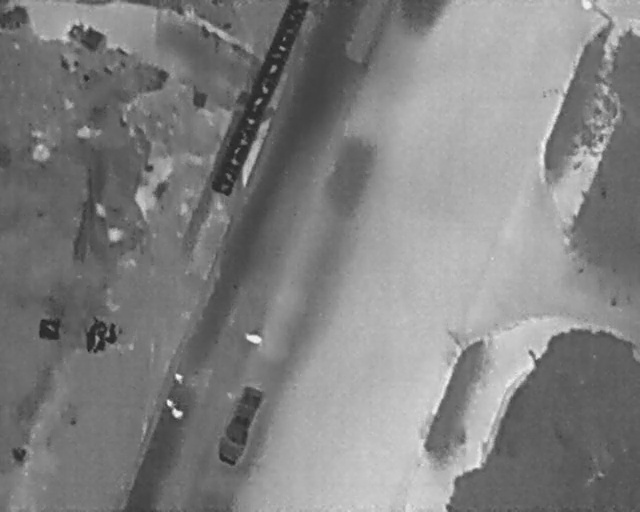Car: (213, 381, 268, 468)
Person: (171, 406, 183, 419), (174, 371, 184, 384), (165, 396, 174, 408)
